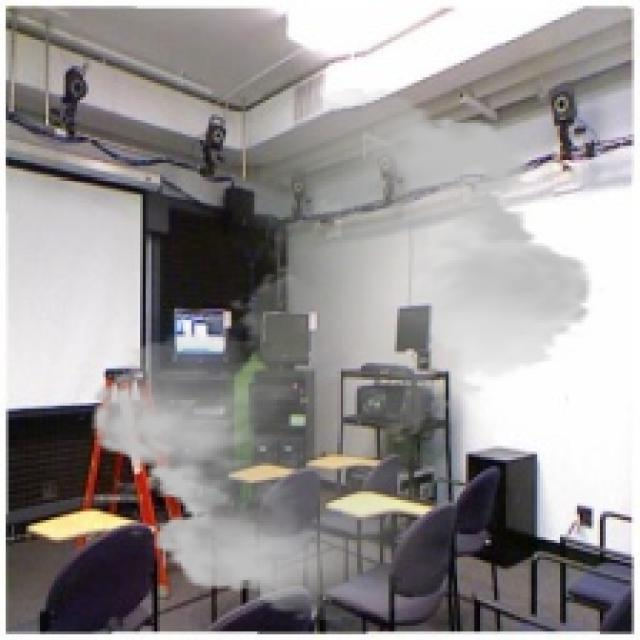Smoke: (74, 89, 609, 620)
